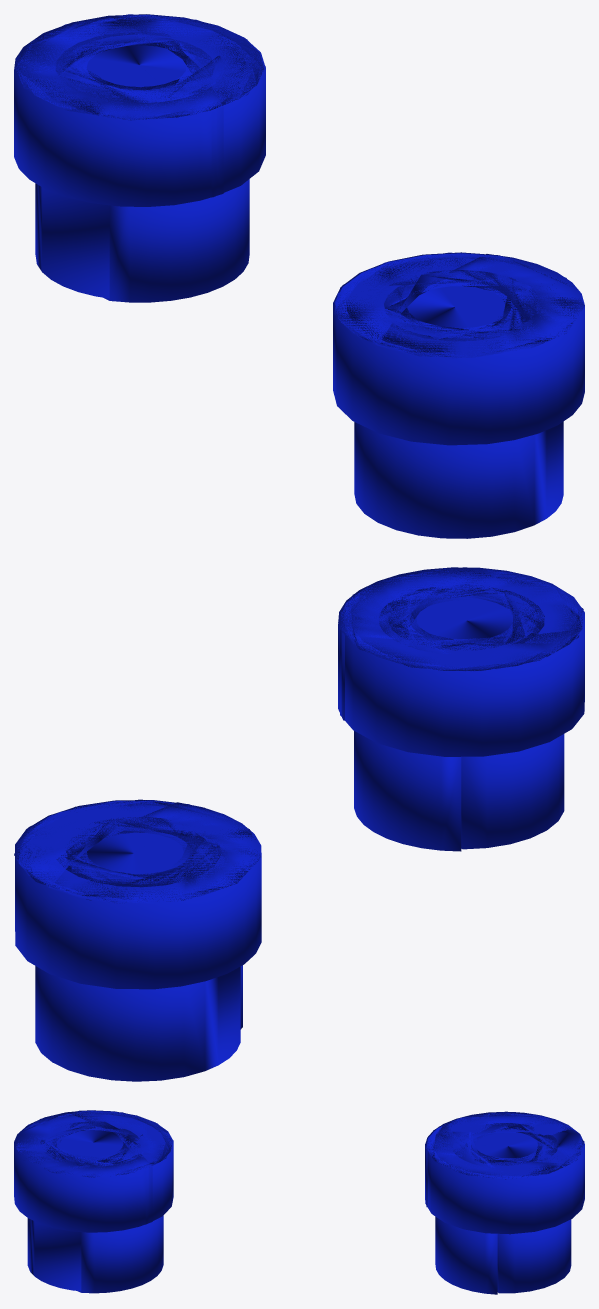
Rendered from tuyeau_element_000065.obj.
3 views of the same model, one above another, from view 1: azimuth 30°, elevation 25°; view 2: azimuth 150°, elevation 25°; view 3: azimuth 270°, elevation 25° (orthographic). The views are drawn at different scales.
Visible parts, largest first — view 1: tuyeau1_Cube.014, tuyeau2_Cube.017; view 2: tuyeau2_Cube.017, tuyeau1_Cube.014; view 3: tuyeau2_Cube.017, tuyeau1_Cube.014.
Boxes of the visible parts, x1=… form: tuyeau1_Cube.014: x1=14, y1=14, x2=265, y2=302; tuyeau2_Cube.017: x1=333, y1=252, x2=584, y2=538; tuyeau2_Cube.017: x1=338, y1=567, x2=584, y2=851; tuyeau1_Cube.014: x1=14, y1=799, x2=261, y2=1081; tuyeau2_Cube.017: x1=14, y1=1110, x2=173, y2=1293; tuyeau1_Cube.014: x1=425, y1=1111, x2=584, y2=1294.
Size of the model in its own units: 3607 by 2917 by 12590.
